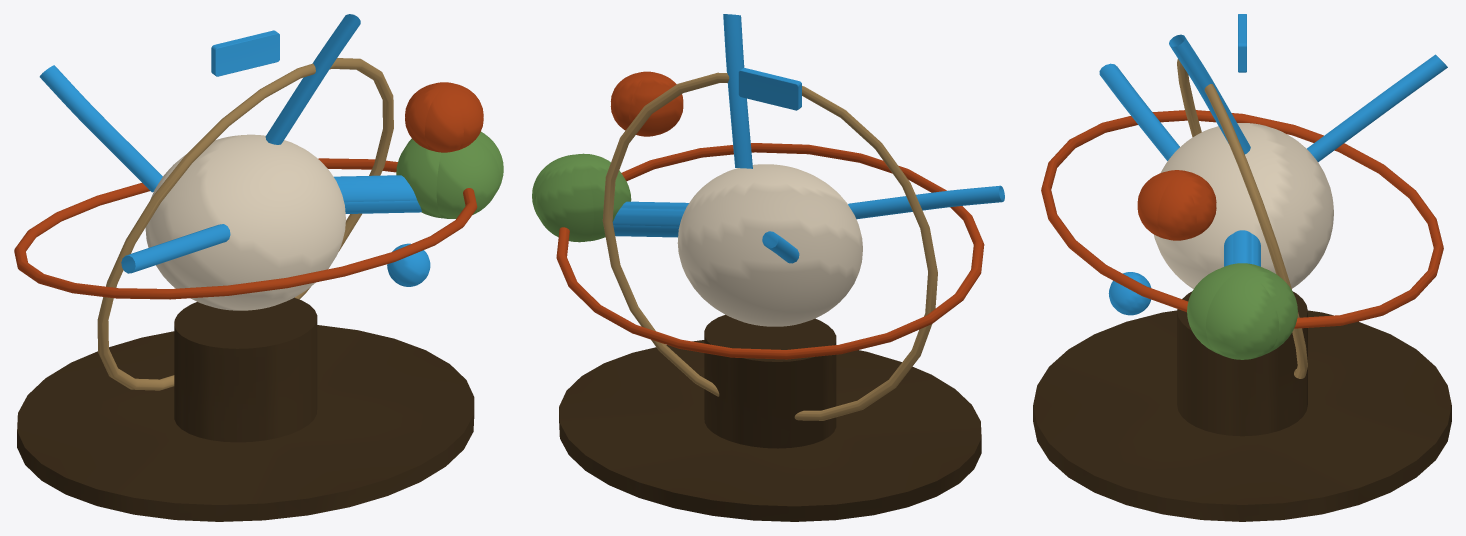
Rendered from 0510_生活中的化学图鉴_铜.glb.
3 renders of one model, left to right at view 1: azimuth 30°, elevation 25°; view 2: azimuth 150°, elevation 25°; view 3: azimuth 270°, elevation 25°, orthographic. The views are drawn at different scales.
Visible parts, largest first — view 1: card_0510; view 2: card_0510; view 3: card_0510.
Boxes of the visible parts, x1,y1,x2,y2 form: card_0510: [14, 14, 503, 521]; card_0510: [532, 14, 1004, 521]; card_0510: [1033, 14, 1451, 521].
Bounding box in the file's own units: 1.15 × 1 × 0.9009.
